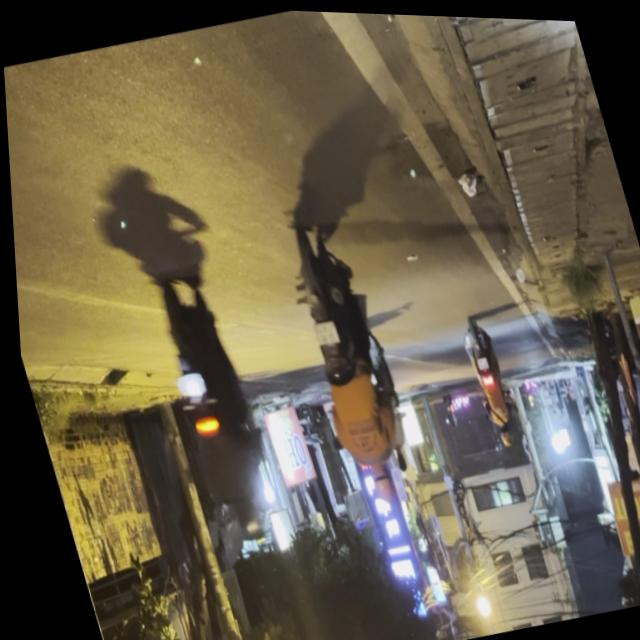helmet: (361, 463, 394, 508)
licenseplate: (130, 268, 294, 559), (272, 218, 423, 518)
nohelmet: (169, 370, 202, 399), (308, 319, 336, 346)
